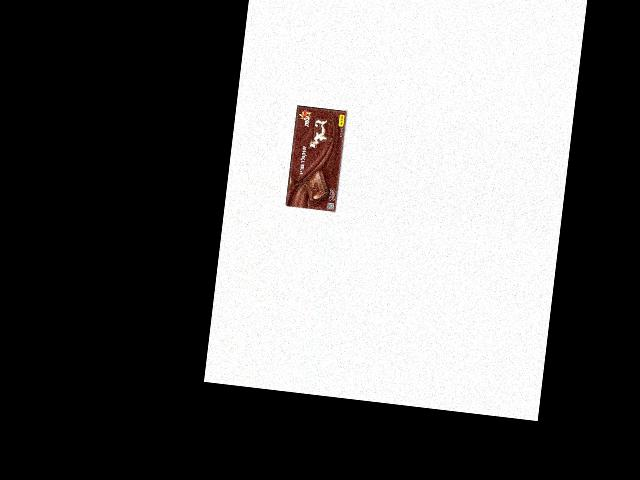chocolate: (284, 102, 347, 210)
